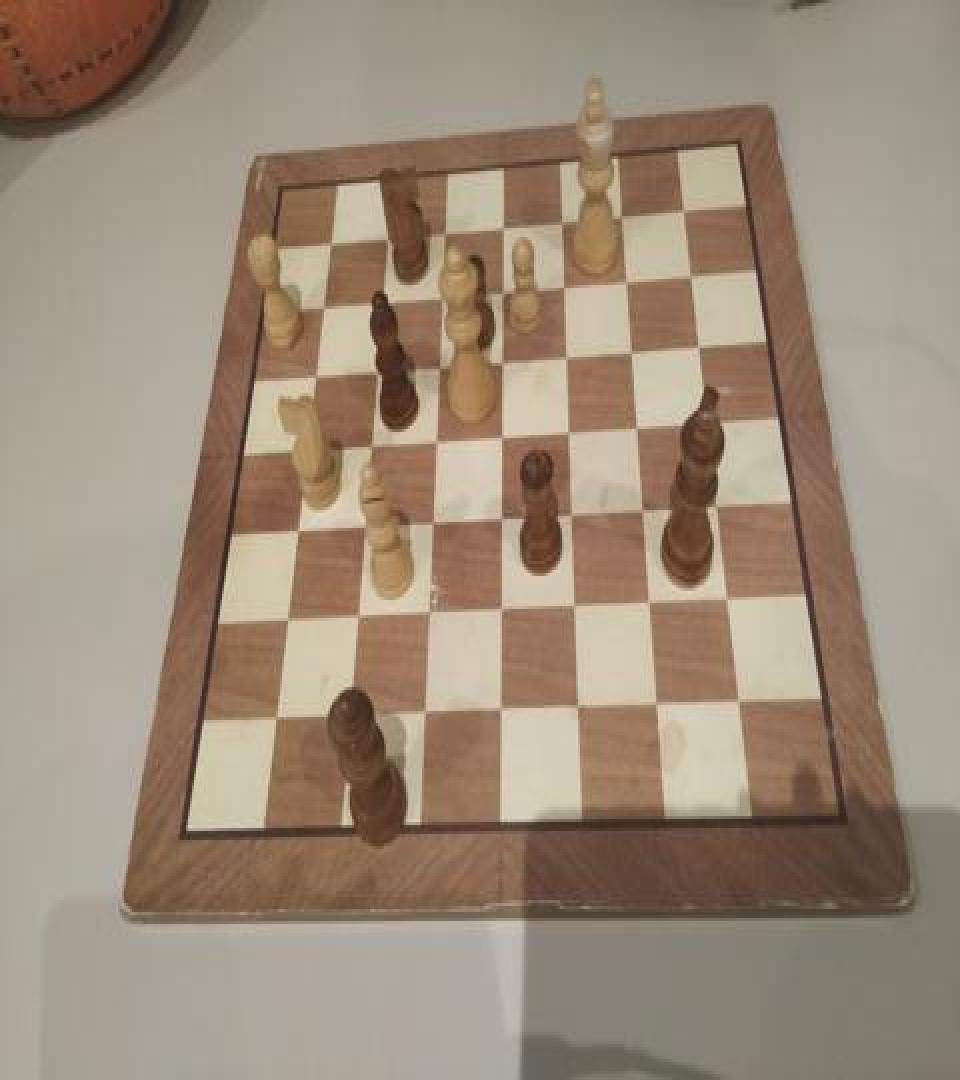xcorner: (634, 499, 654, 530), (429, 280, 449, 311), (261, 708, 281, 738), (335, 706, 355, 736), (489, 702, 509, 732), (568, 699, 588, 729), (730, 696, 750, 726), (272, 609, 292, 639), (343, 606, 363, 636), (416, 603, 436, 633), (489, 600, 509, 630), (564, 597, 584, 627), (641, 594, 661, 624), (719, 591, 739, 621), (283, 518, 303, 548), (351, 514, 371, 544), (420, 512, 440, 542), (490, 507, 510, 537), (561, 504, 581, 534), (708, 496, 728, 526), (292, 435, 312, 465), (357, 432, 377, 462), (423, 428, 443, 458), (490, 423, 510, 453), (558, 418, 578, 448), (628, 416, 648, 446), (698, 411, 718, 441), (301, 360, 321, 390), (363, 356, 383, 386), (426, 351, 446, 381), (491, 346, 511, 376), (556, 342, 576, 372), (622, 338, 642, 368), (689, 333, 709, 363), (309, 291, 329, 321), (369, 286, 389, 316), (491, 276, 511, 306), (553, 272, 573, 302), (617, 267, 637, 297), (681, 261, 701, 291), (317, 226, 337, 256), (374, 222, 394, 252), (432, 216, 452, 246), (491, 212, 511, 242), (551, 206, 571, 236), (612, 201, 632, 231), (674, 195, 694, 225), (411, 704, 431, 733), (648, 698, 668, 727)
